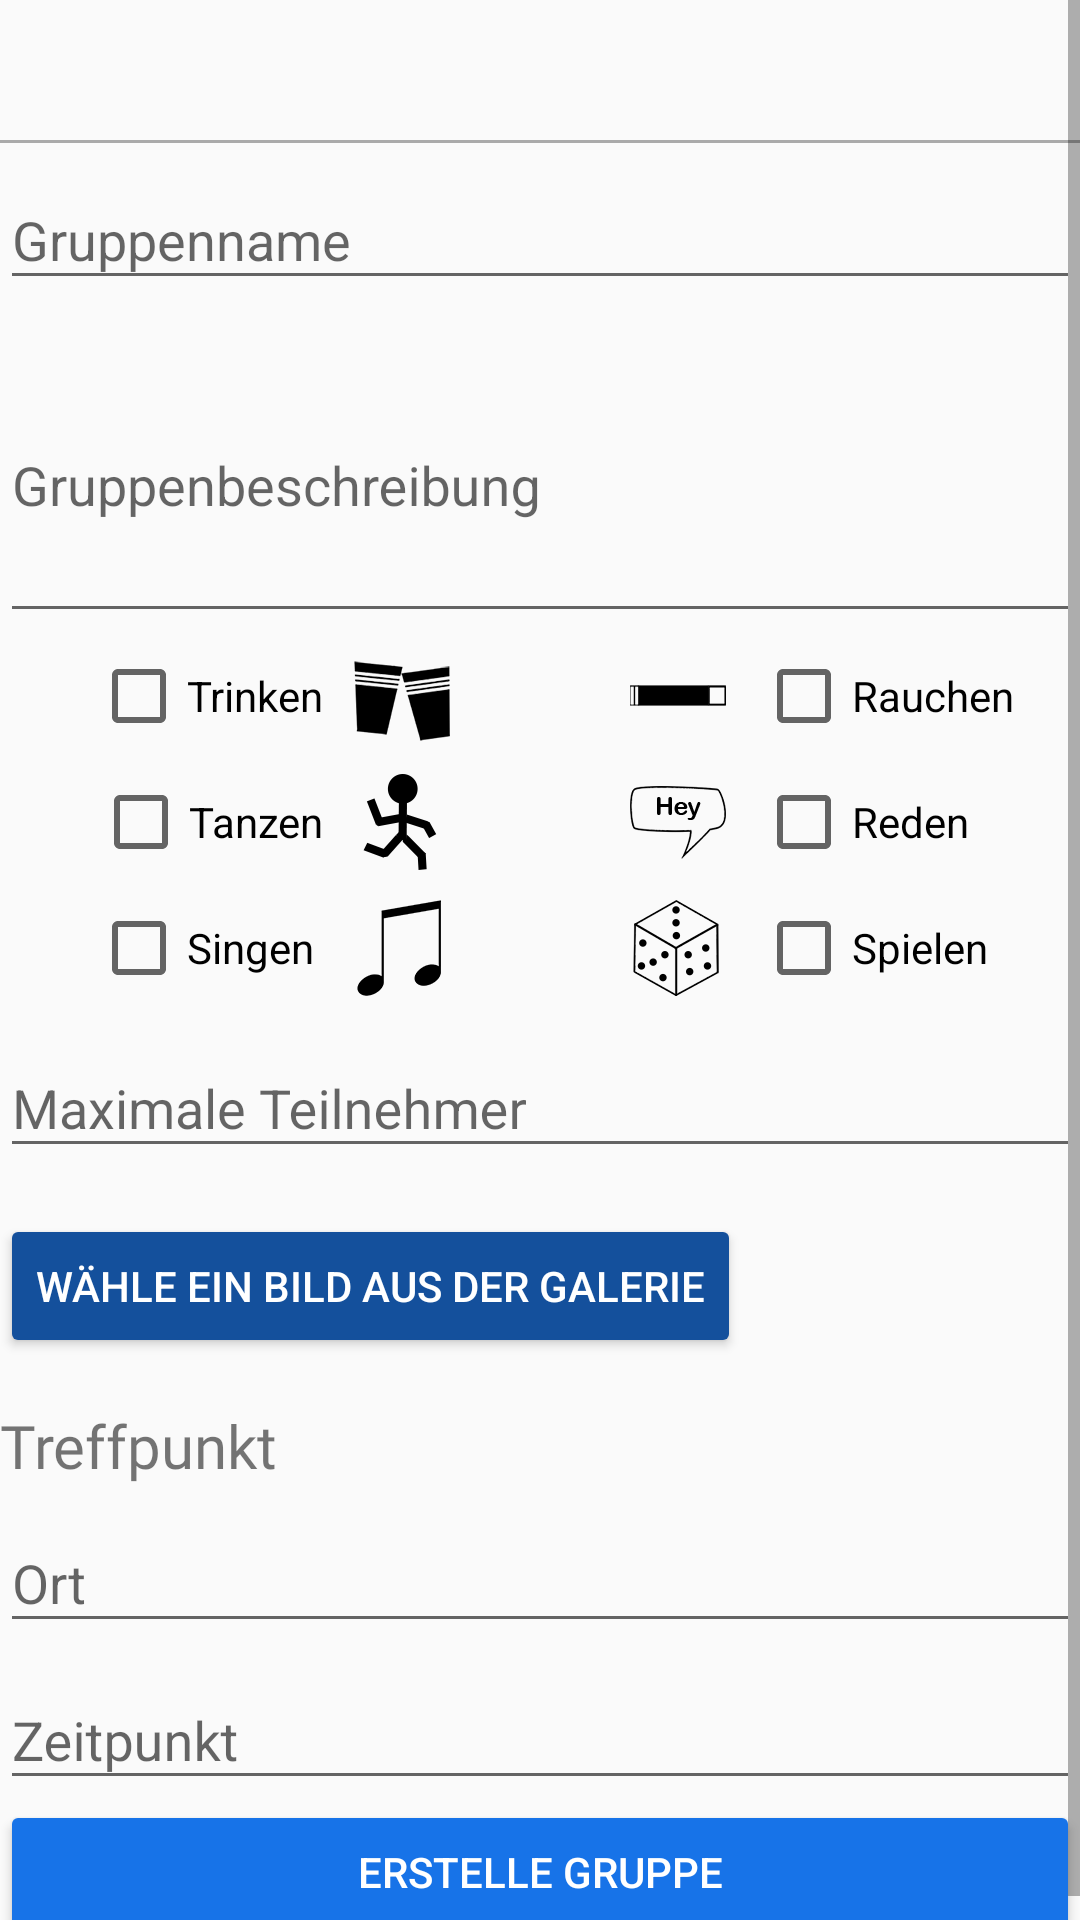

Screen size 1080×1920. Icon name, then its center in pixels as point (x, y):
dance without padding: point (399, 822)
drink without padding: point (402, 701)
play without padding: point (676, 948)
sing without padding: point (399, 948)
smoking without padding: point (678, 695)
talk without padding: point (678, 822)
